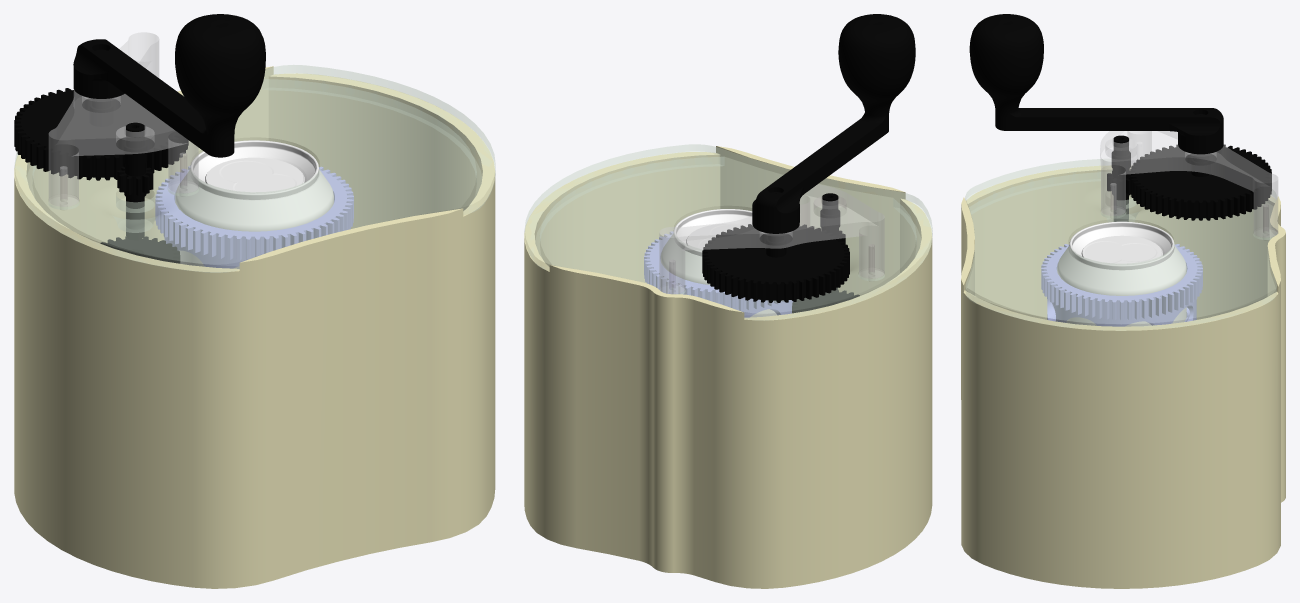
Rendered from beercancooler.glb.
3 renders of one model, left to right at view 1: azimuth 30°, elevation 25°; view 2: azimuth 150°, elevation 25°; view 3: azimuth 270°, elevation 25°, orthographic. The views are drawn at different scales.
Parts seen in each view (by area): view 1: Body208, Lid (1) (2), New Handle, Can (1), Handle Gear, Can, Can Cage (1), Drive Gear (1) (1), Drive Gear (1); view 2: Body208, Lid (1) (2), New Handle, Handle Gear, Can, Can (1), Can Cage (1), Drive Gear (1) (1), Drive Gear (1); view 3: Body208, Lid (1) (2), New Handle, Handle Gear, Can (1), Can, Can Cage (1), Drive Gear (1) (1).
Boxes of the visible parts, box(x1,y1,x2,y2) form: Body208: box(14, 66, 495, 588); Lid (1) (2): box(14, 65, 495, 272); New Handle: box(73, 14, 265, 157); Can (1): box(175, 140, 333, 268); Handle Gear: box(14, 88, 188, 180); Can: box(49, 32, 198, 206); Can Cage (1): box(155, 166, 353, 268); Drive Gear (1) (1): box(117, 122, 153, 240); Drive Gear (1): box(100, 236, 180, 263); Body208: box(524, 146, 932, 588); Lid (1) (2): box(524, 144, 932, 320); New Handle: box(752, 14, 915, 233); Handle Gear: box(702, 224, 849, 302); Can: box(659, 184, 884, 293); Can (1): box(661, 209, 776, 317); Can Cage (1): box(644, 231, 793, 317); Drive Gear (1) (1): box(820, 193, 845, 293); Drive Gear (1): box(792, 290, 859, 313); Body208: box(961, 165, 1285, 588); Lid (1) (2): box(965, 159, 1277, 330); New Handle: box(969, 14, 1223, 154); Handle Gear: box(1130, 144, 1271, 220); Can (1): box(1057, 221, 1186, 326); Can: box(1100, 131, 1277, 237); Can Cage (1): box(1041, 244, 1202, 326); Drive Gear (1) (1): box(1107, 135, 1130, 221).
Size of the model in its own units: 0.2 by 0.2488 by 0.1657.
